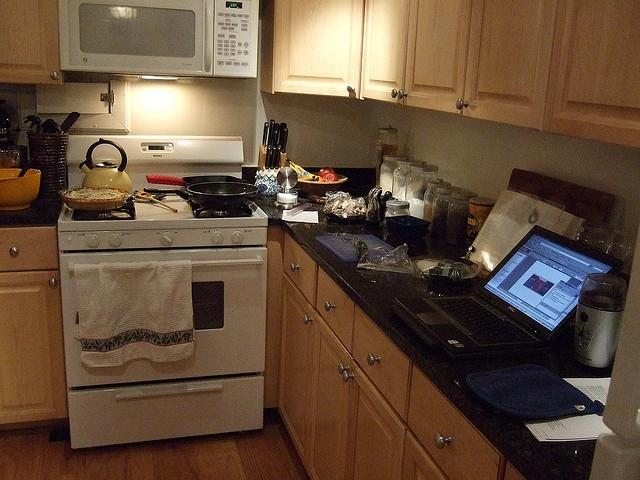apple: (318, 166, 335, 178), (322, 172, 338, 182)
